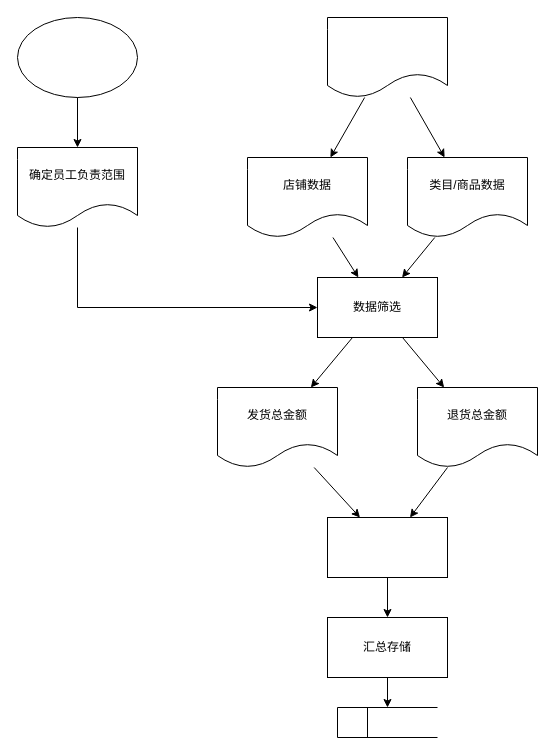
The diagram is 555 pixels wide and 755 high, and some of its shapes have lost their labels. Here are the shapes that lost their labels. From the top down, the box of each, then its label:
(16, 16, 138, 98): 运营专员
(326, 16, 448, 98): 旺店通销售数据
(326, 516, 448, 578): 指标核算公式
(336, 706, 438, 738): 退货率
